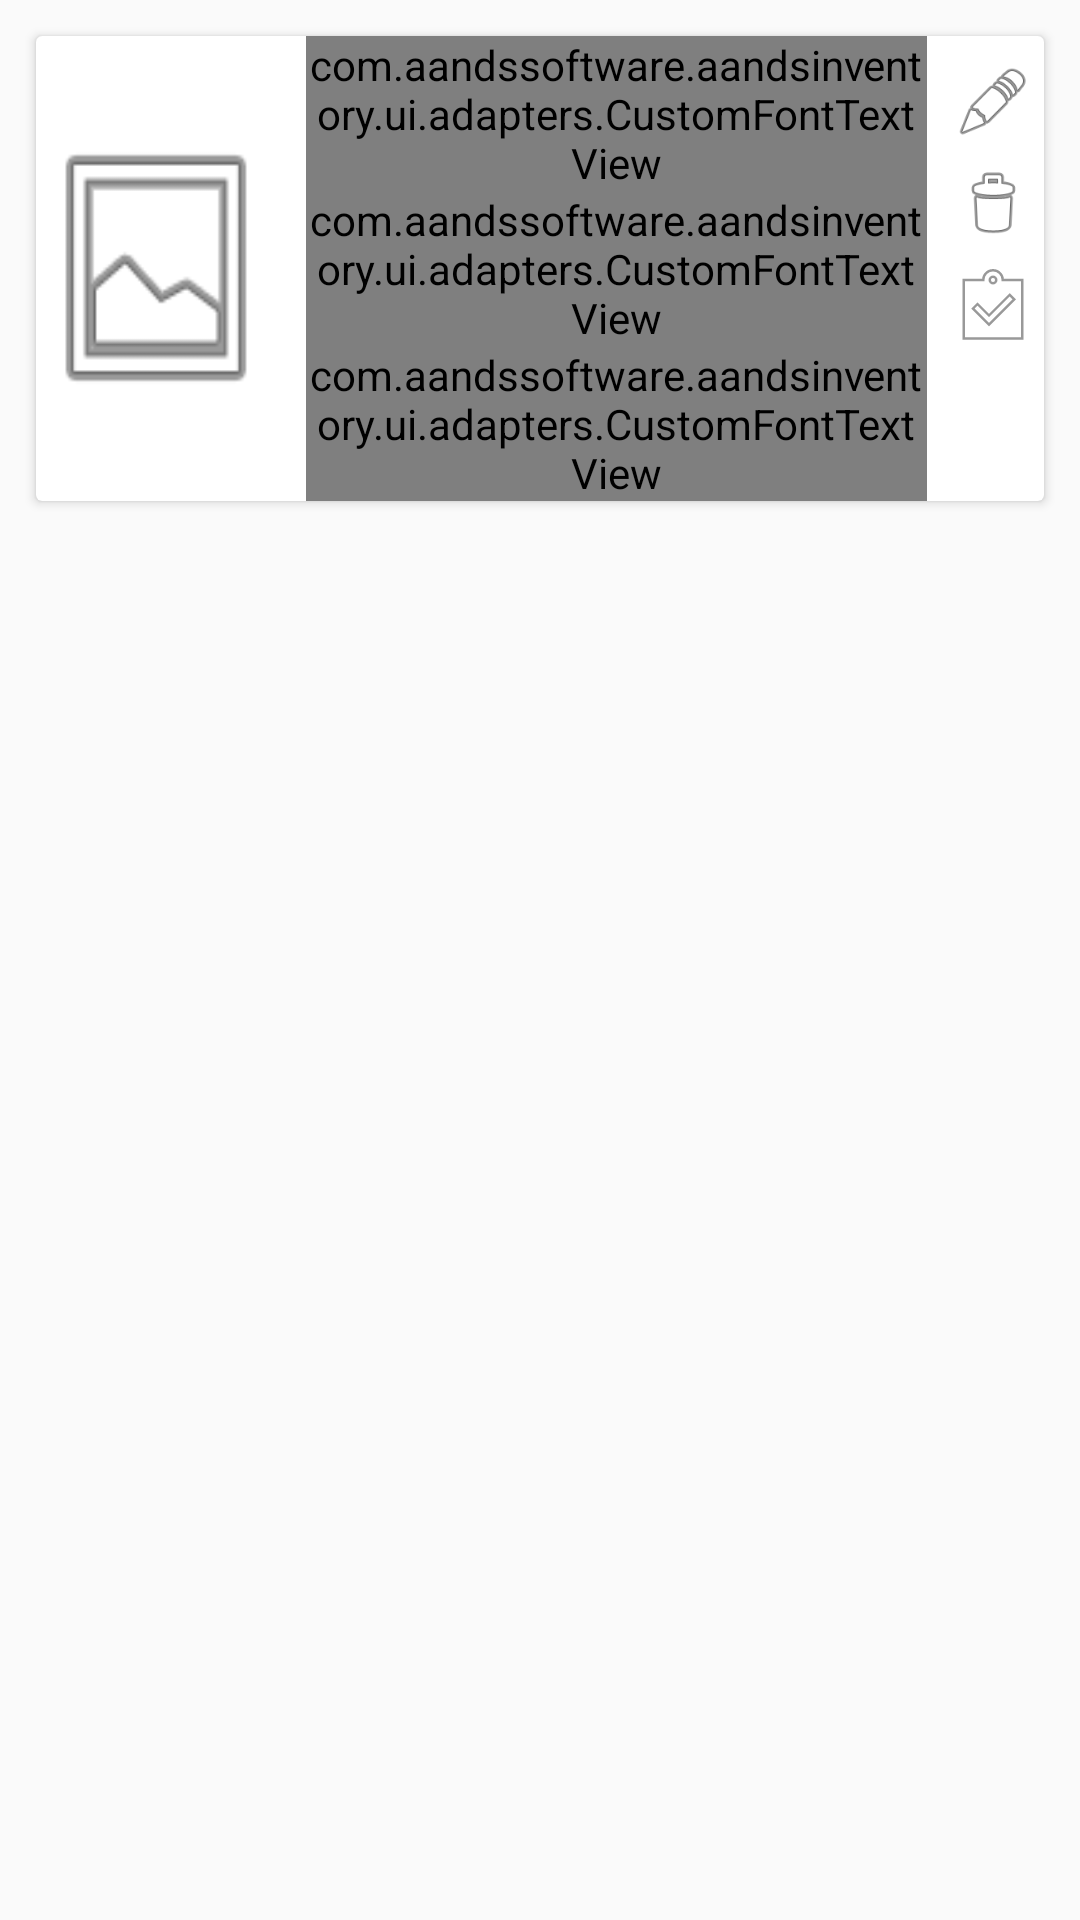

Locate icon controls on the screen. Image size 1080×1920, boxes as (x1,y1,x2,y2).
delete: (971,172,1016,233)
edit: (960,68,1026,135)
gallery: (65,155,247,381)
